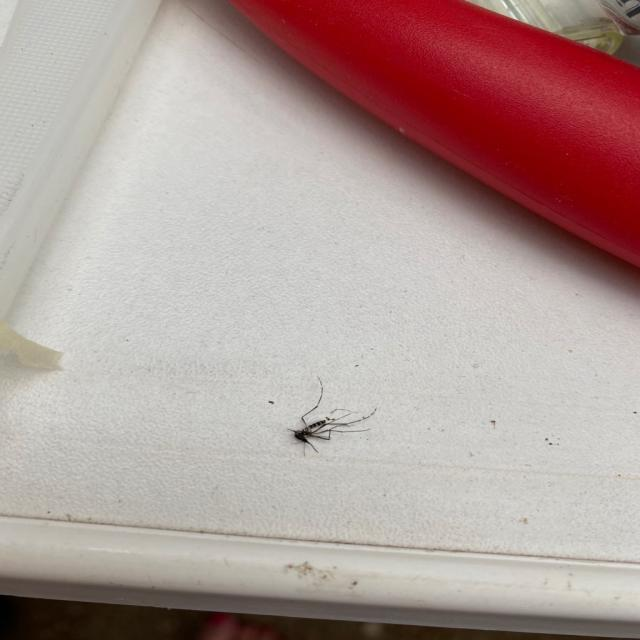albopictus: (267, 372, 380, 460)
